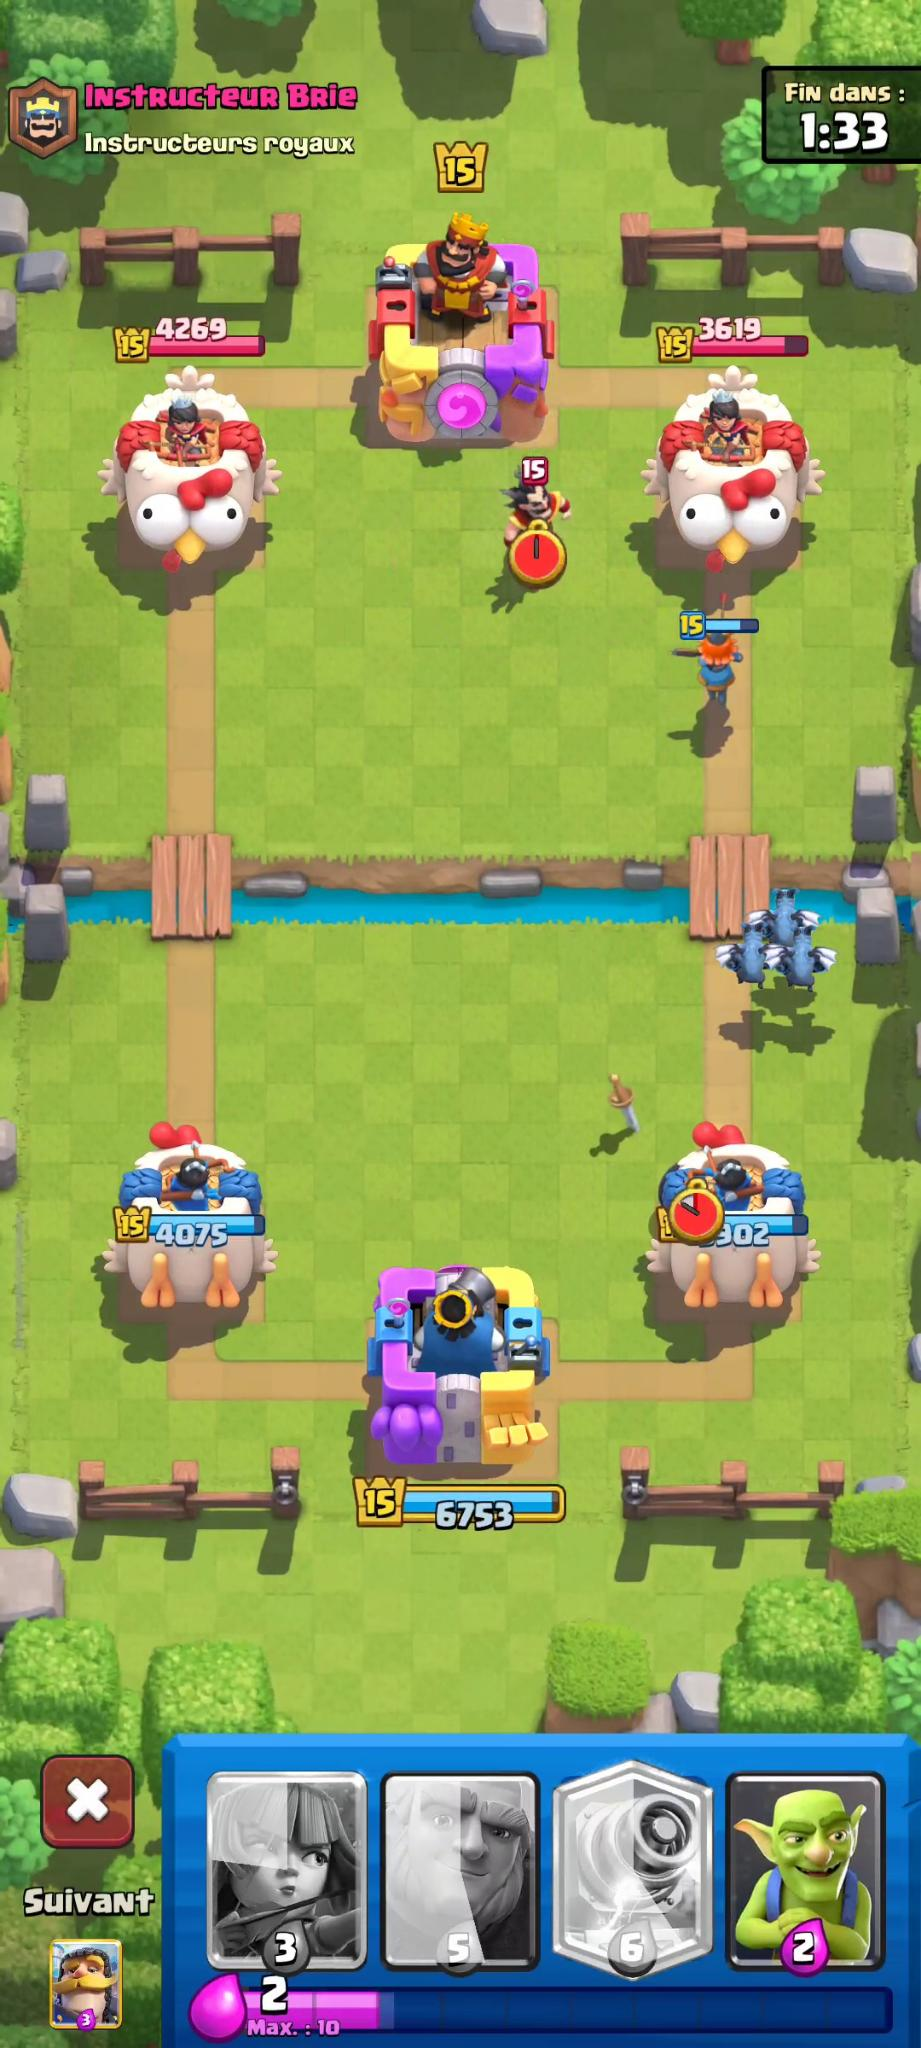gargouille: (780, 935, 843, 1012), (721, 923, 777, 997), (763, 880, 818, 951)
valkyrie: (654, 593, 767, 731)
